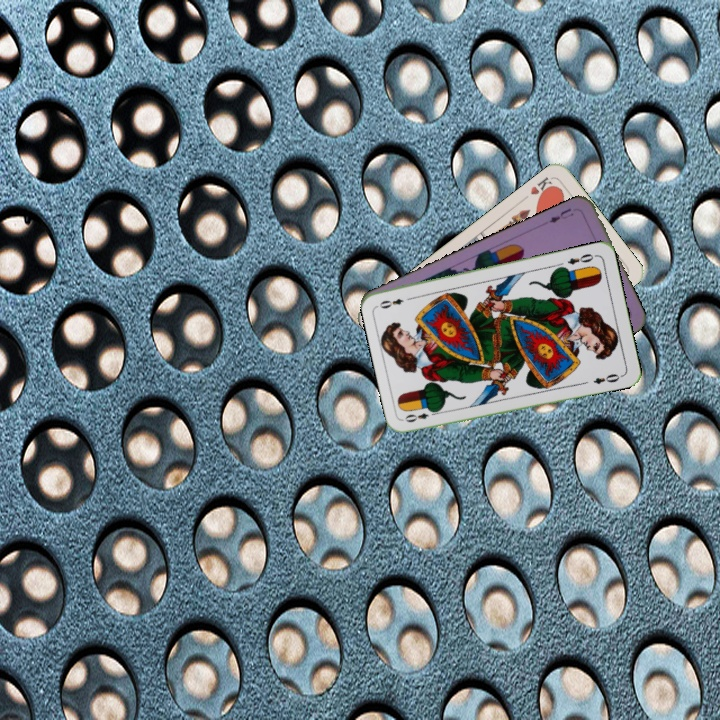EO: (401, 406, 440, 425), (563, 249, 599, 267)
EU: (545, 204, 576, 226)
HK: (526, 173, 557, 201)
